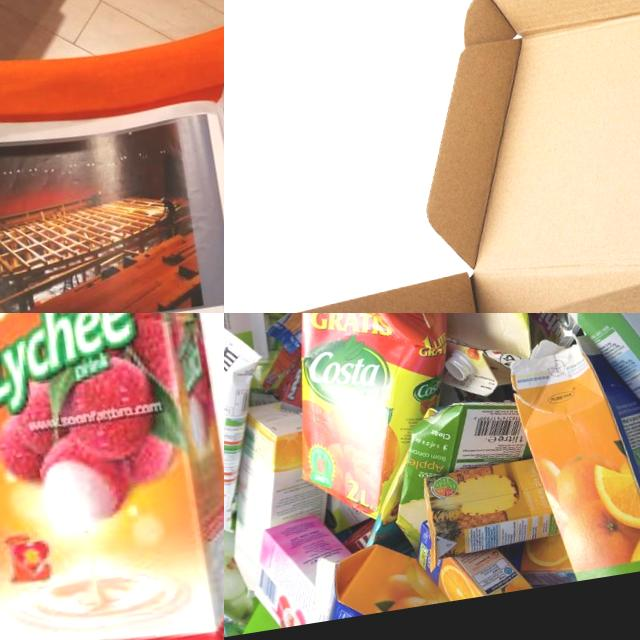caixinha: (0, 313, 224, 640), (265, 313, 483, 538), (505, 318, 640, 586), (505, 313, 640, 528), (224, 313, 291, 538), (298, 534, 457, 624)
garrafa plástica: (224, 0, 640, 313)
papel: (0, 0, 224, 313)
